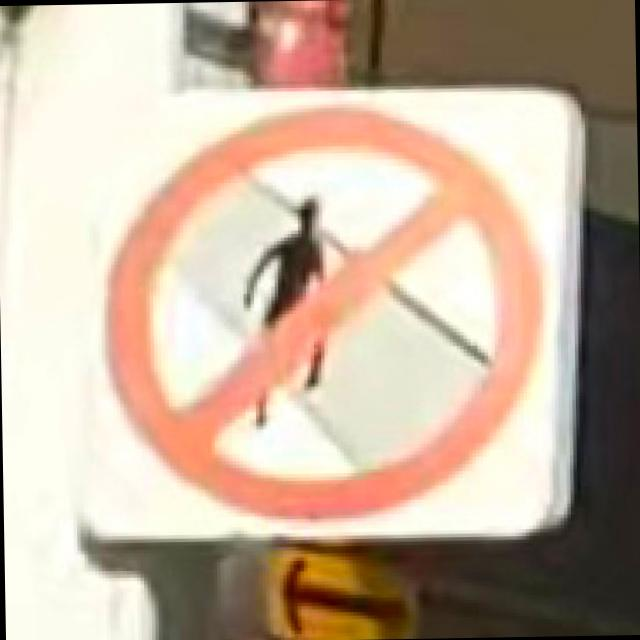nojaywalking_sign: (65, 76, 592, 554)
